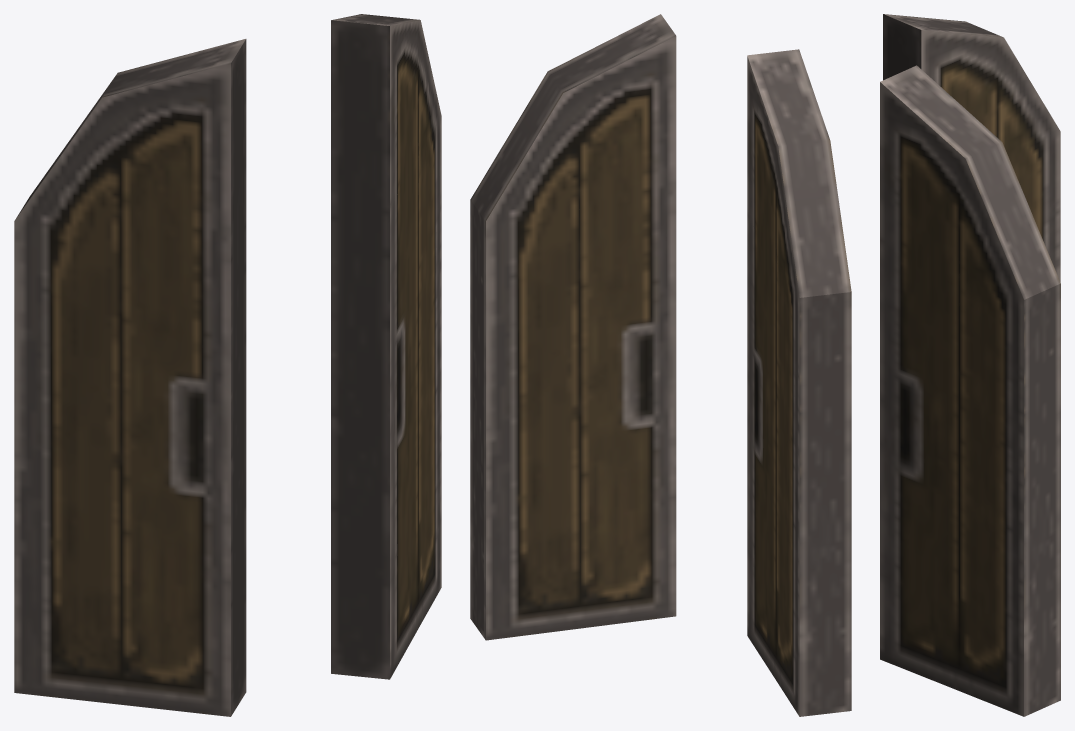
Rendered from DoorOpened.fbx.
3 views of the same model, side by side, from view 1: azimuth 30°, elevation 25°; view 2: azimuth 150°, elevation 25°; view 3: azimuth 270°, elevation 25° (orthographic). The views are drawn at different scales.
Parts seen in each view (by area): view 1: doorL, doorR; view 2: doorR, doorL; view 3: doorR, doorL.
Part boxes in pixels (box(x1,y1,x2,y2)): doorL: box(14, 39, 246, 716); doorR: box(331, 14, 441, 679); doorR: box(470, 14, 676, 640); doorL: box(747, 49, 851, 716); doorR: box(880, 65, 1060, 716); doorL: box(883, 14, 1060, 281).
Bounding box in the file's own units: 1102 × 1607 × 456.
